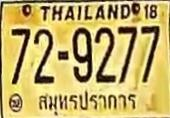2: (94, 27, 117, 84), (33, 28, 55, 84)
7: (10, 28, 30, 83), (140, 25, 159, 81), (118, 25, 136, 81)
9: (72, 27, 91, 82), (72, 28, 91, 81)
SPK: (33, 91, 139, 113)
